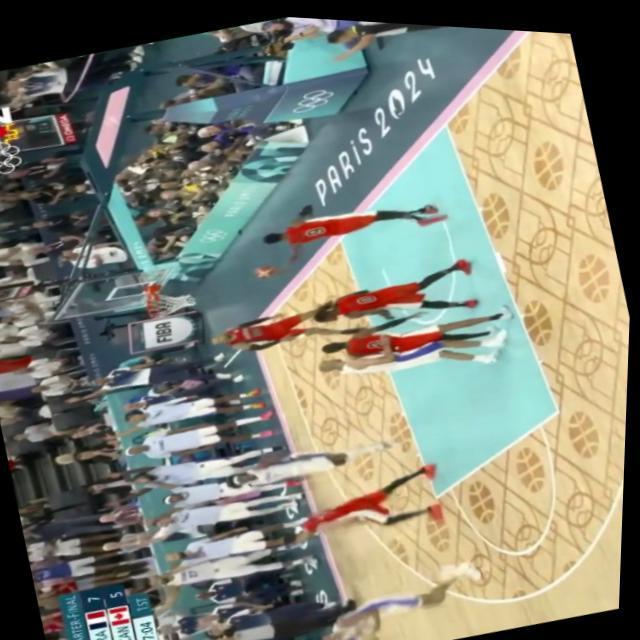ball_handler: (231, 163, 462, 292)
